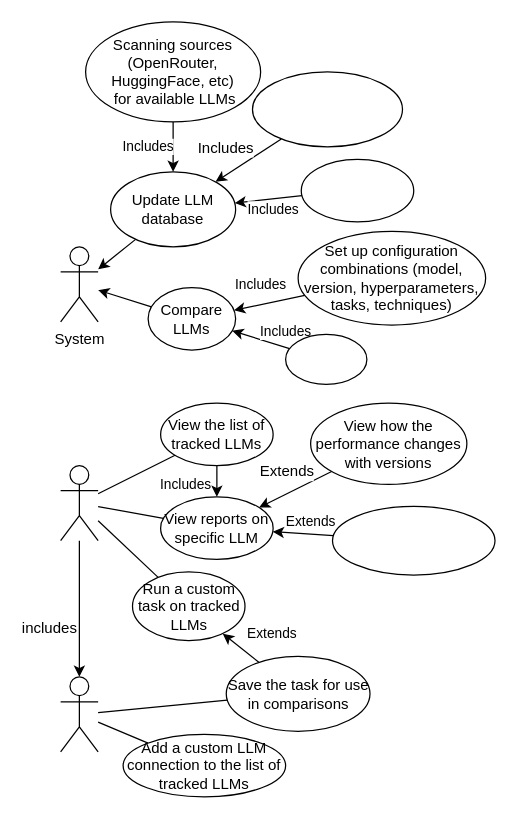
Image size: 518x819. Some labels were removed from this diagram. Each missing label, with the centre of its shape:
Admin: (x=78, y=714)
Compare the reports with different LLMs: (x=413, y=540)
save records of different versions of the same model: (x=326, y=109)
Save the results: (x=325, y=358)
testing reachability if applicable: (x=357, y=190)
User: (x=78, y=502)
